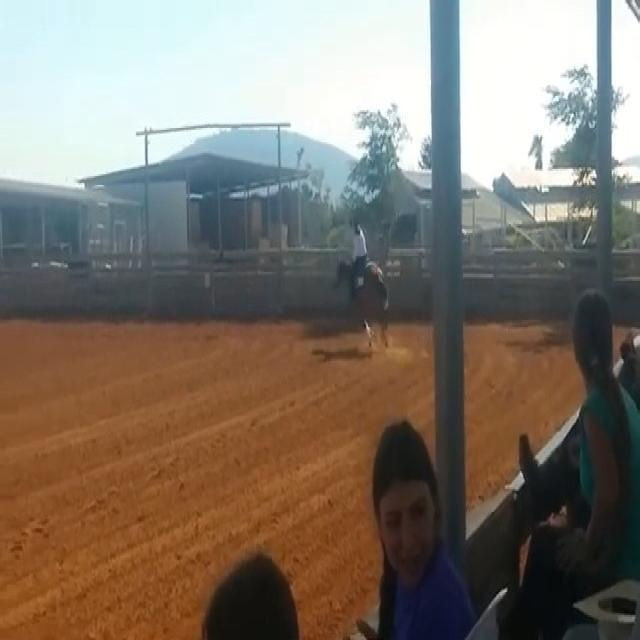horse: (331, 252, 391, 352)
